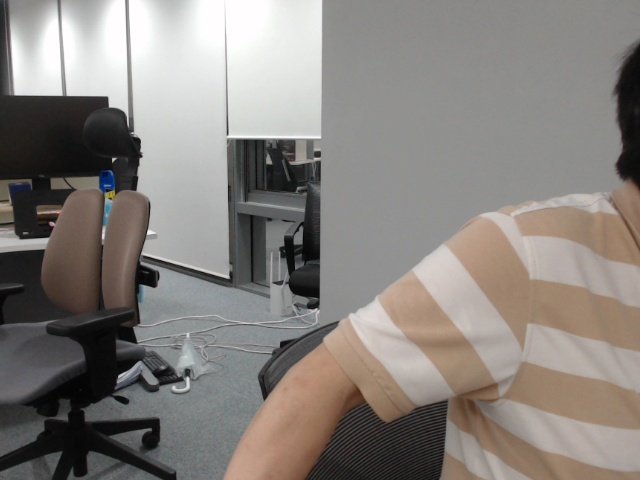chair: (291, 253, 304, 274)
